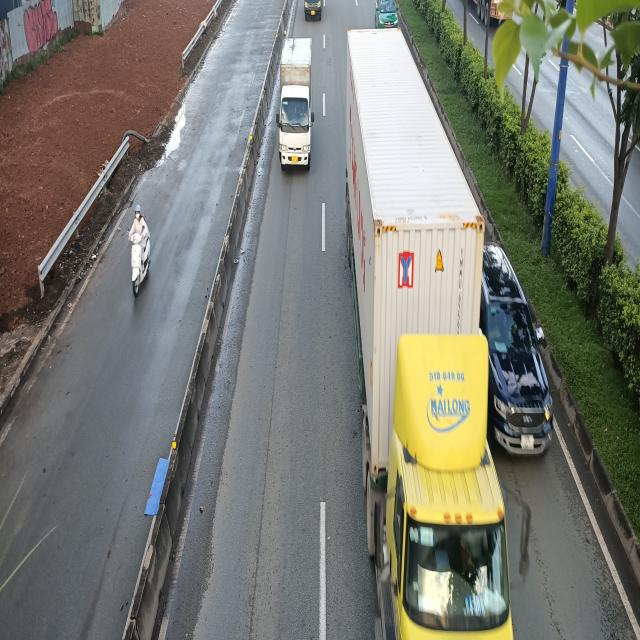car: (480, 245, 551, 461)
container: (344, 28, 528, 640)
truck: (276, 35, 314, 168)
